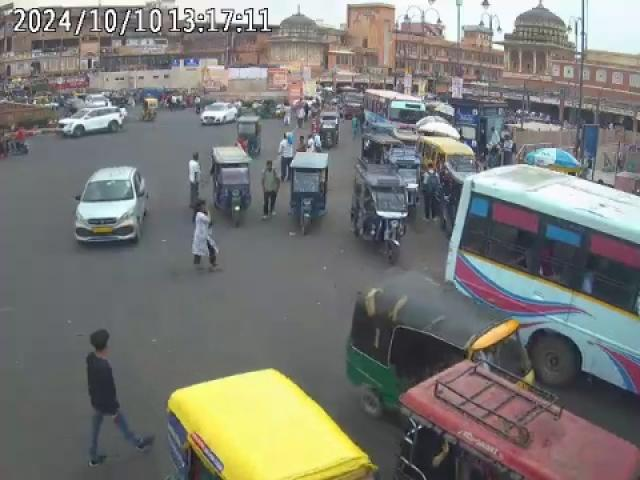auto: (394, 357, 640, 479), (346, 266, 540, 417), (168, 369, 376, 480), (353, 161, 410, 262), (288, 152, 332, 238), (208, 144, 253, 228), (416, 134, 478, 194), (236, 116, 264, 156), (320, 110, 343, 148)
bus: (446, 158, 640, 390), (363, 88, 428, 138)
car: (72, 166, 149, 252), (56, 106, 124, 138), (199, 102, 241, 126)
license_plate: (92, 226, 117, 235)
person: (82, 330, 126, 462), (190, 204, 218, 274), (262, 162, 283, 220), (188, 155, 202, 211)
